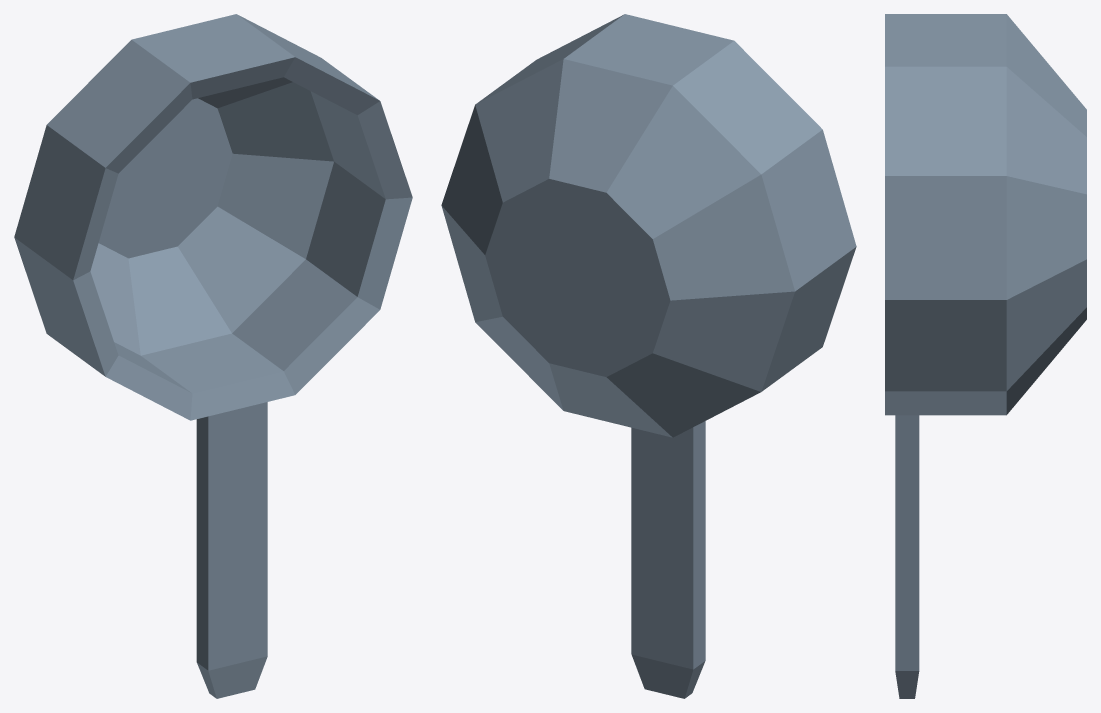
Rendered from Sift.obj.
The picture shows the model from 3 angles, left to right: view 1: azimuth 30°, elevation 25°; view 2: azimuth 150°, elevation 25°; view 3: azimuth 270°, elevation 25°; orthographic projection. The views are drawn at different scales.
Parts seen in each view (by area): view 1: pot.002; view 2: pot.002; view 3: pot.002.
Boxes of the visible parts, x1,y1,x2,y2 form: pot.002: [14, 14, 412, 698]; pot.002: [441, 14, 856, 698]; pot.002: [885, 14, 1086, 698].
Size of the model in its own units: 0.1644 by 0.2911 by 0.082.
